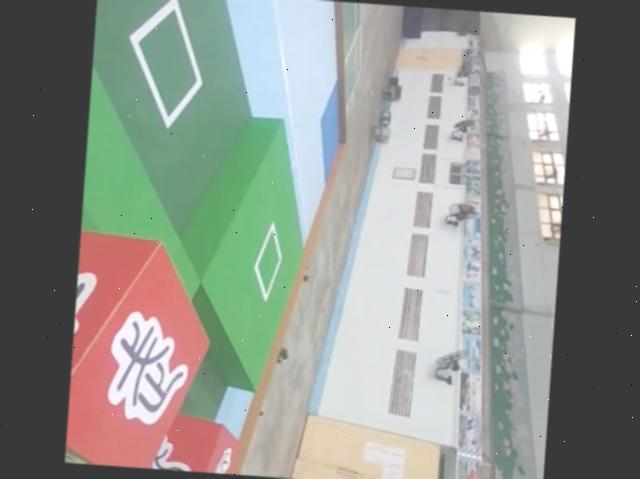R2 Fake: (64, 226, 220, 472)
R2 Real: (107, 407, 251, 475)
